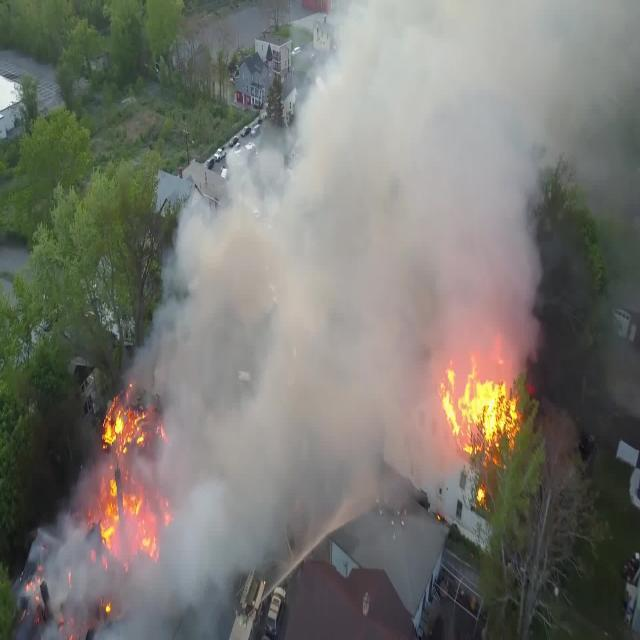Fire: (432, 346, 536, 510), (106, 406, 163, 564)
Smoke: (176, 0, 640, 344), (168, 349, 428, 532)
